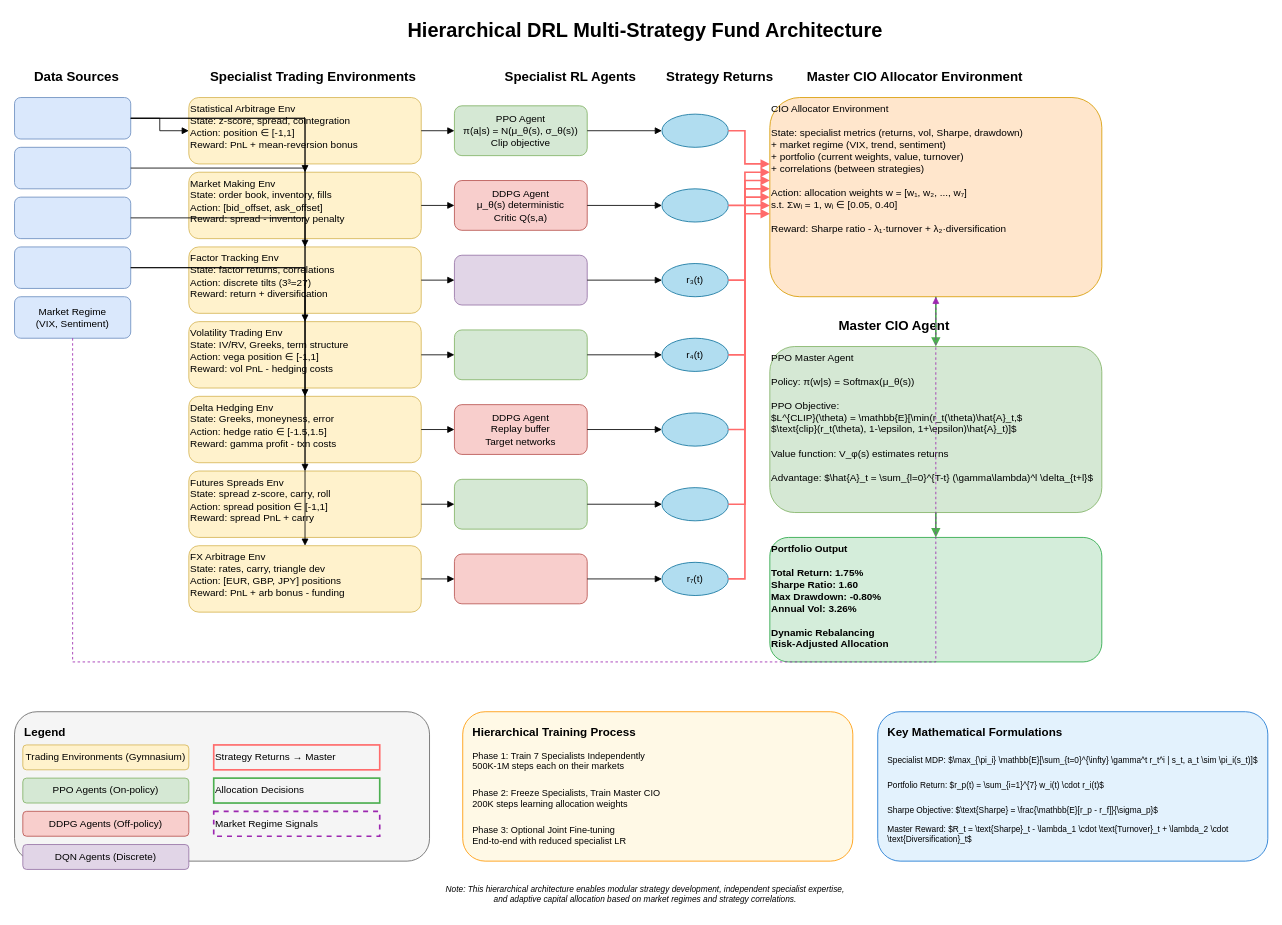
Image size: 1282x925. Some labels were removed from this diagram. The shapes that lost their labels are listed below. From the top down, each one's centre as x and y in pixels, then its label:
At point (72, 118): "Equities (Pairs Trading)".
At point (694, 130): "r₁(t)".
At point (72, 167): "FX Markets (6 Pairs)".
At point (72, 217): "Futures (Commodities)".
At point (694, 205): "r₂(t)".
At point (72, 267): "Options (Greeks)".
At point (520, 279): "DQN Agent Q(s,a) = V(s) + A(s,a) ε-greedy".
At point (520, 354): "PPO Agent Continuous action On-policy updates".
At point (694, 429): "r₅(t)".
At point (520, 503): "PPO Agent Continuous position Advantage estimation".
At point (694, 504): "r₆(t)".
At point (520, 578): "DDPG Agent Multi-dimensional Ornstein-Uhlenbeck".
